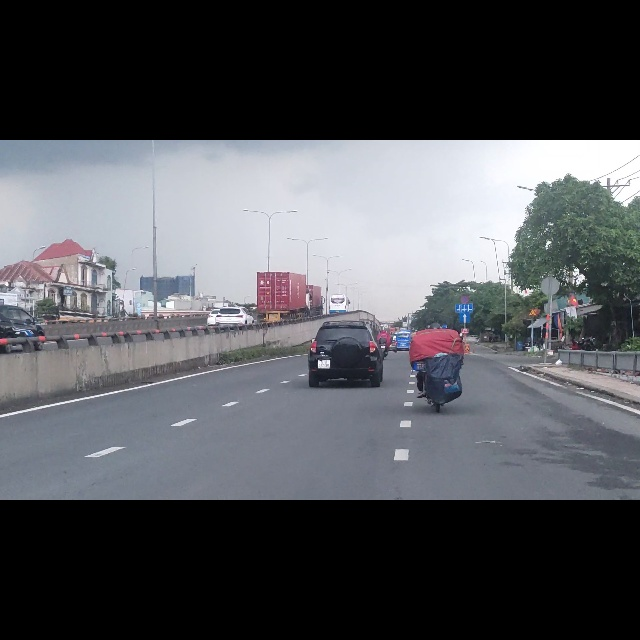bien_cam: (459, 306, 471, 326), (461, 276, 468, 290)
